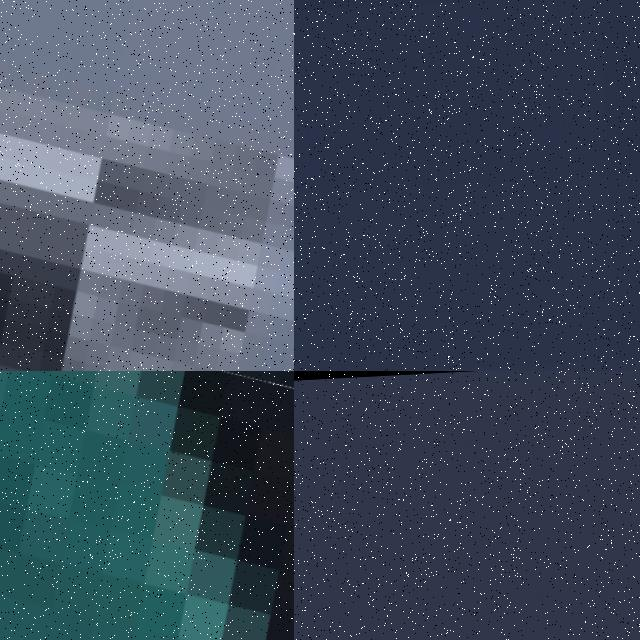0: (0, 0, 294, 371)
drone: (0, 371, 294, 640)
